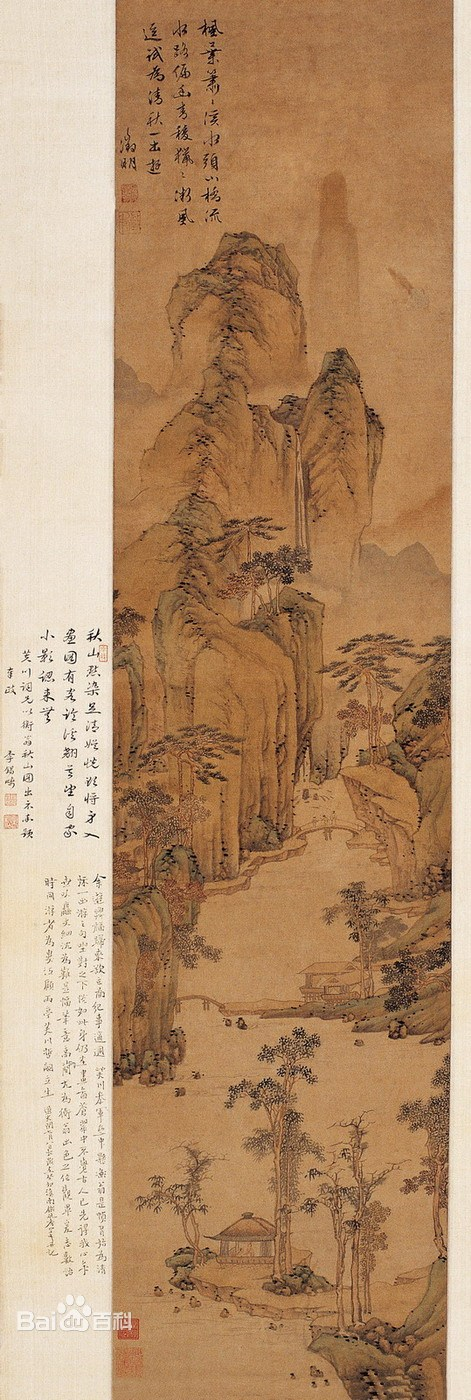booth: (218, 1220, 278, 1263), (304, 965, 361, 1001)
bridge: (297, 823, 361, 837), (180, 1000, 223, 1017)
mountain: (121, 393, 290, 514), (174, 239, 299, 400), (220, 632, 294, 837), (120, 527, 216, 684), (310, 377, 382, 561), (114, 891, 184, 1065), (362, 773, 448, 882), (306, 184, 357, 352), (412, 1269, 451, 1399), (296, 601, 319, 724), (387, 998, 453, 1037)
tree: (325, 1170, 370, 1327), (411, 1109, 454, 1265), (263, 1078, 297, 1273), (341, 889, 382, 1007), (231, 556, 295, 616), (337, 639, 408, 688), (420, 646, 452, 747), (137, 791, 191, 850), (154, 733, 219, 778), (346, 710, 389, 765), (273, 1040, 317, 1082), (144, 1189, 205, 1213), (383, 964, 414, 1005), (404, 949, 453, 969), (367, 1203, 386, 1254), (185, 1153, 210, 1190), (347, 1122, 365, 1173), (227, 524, 280, 541), (187, 1216, 206, 1261), (231, 1083, 269, 1102), (433, 1065, 448, 1103), (367, 1168, 396, 1185)
waterfall: (291, 431, 306, 553)
